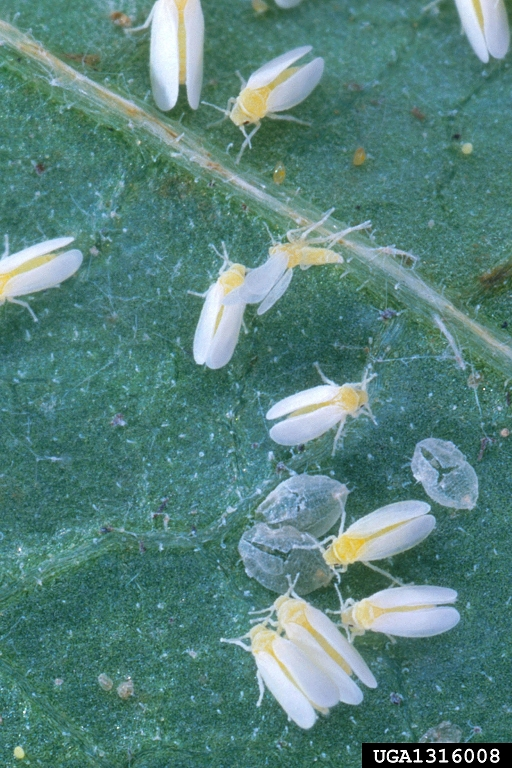Tobacco Whitefly: (252, 584, 358, 728), (259, 369, 395, 455), (4, 219, 94, 329), (235, 35, 312, 141), (188, 250, 237, 394), (153, 1, 206, 134), (322, 504, 441, 562), (356, 593, 491, 637)
